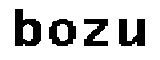b: (12, 4, 44, 51)
o: (48, 17, 80, 51)
u: (116, 16, 149, 54)
z: (82, 17, 113, 51)
